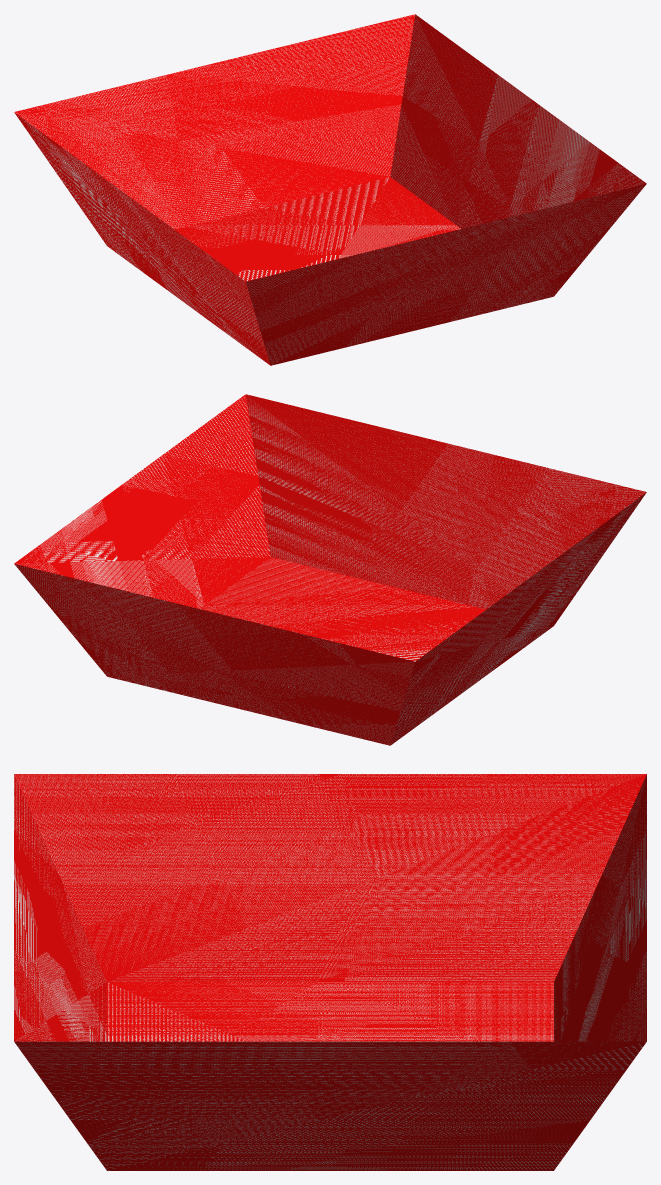
3 renders of one model, top to bottom at view 1: azimuth 30°, elevation 25°; view 2: azimuth 150°, elevation 25°; view 3: azimuth 270°, elevation 25°, orthographic. The views are drawn at different scales.
Parts seen in each view (by area): view 1: group_0; view 2: group_0; view 3: group_0.
Part boxes in pixels (x1,y1,x2,y2): group_0: (14,14,646,365); group_0: (14,394,646,745); group_0: (14,774,646,1170).
Bounding box in the file's own units: 11.15 × 11.15 × 3.28.
